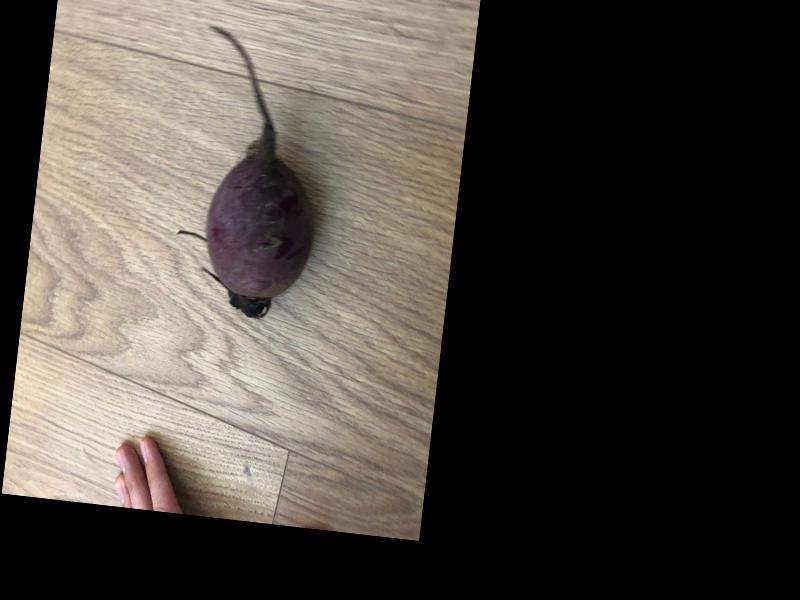Beet: (169, 23, 333, 321)
